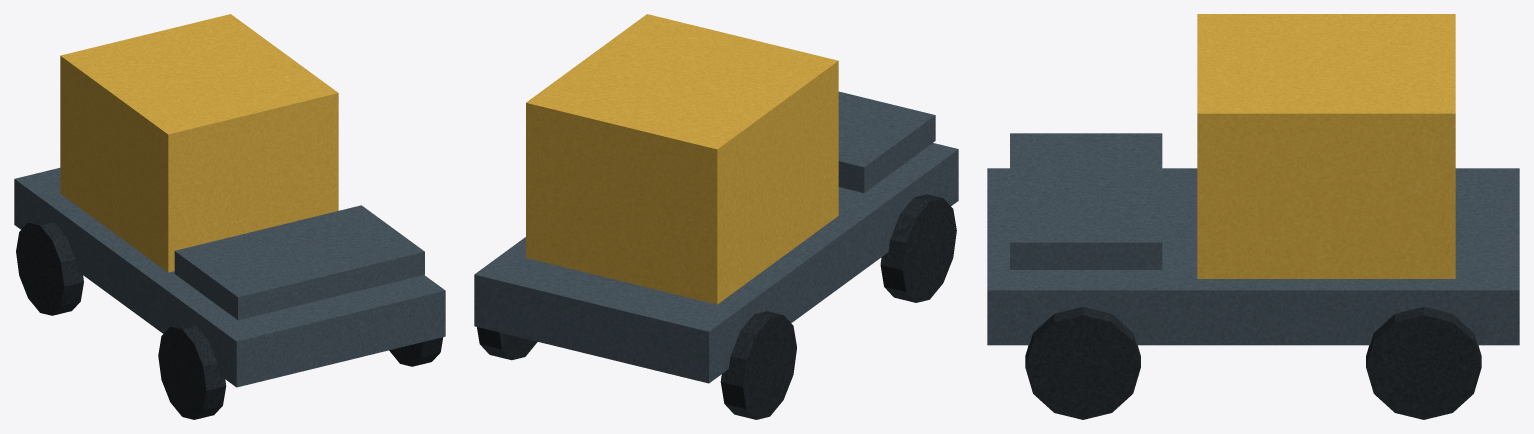
Rendered from baggage_tug.glb.
3 renders of one model, left to right at view 1: azimuth 30°, elevation 25°; view 2: azimuth 150°, elevation 25°; view 3: azimuth 270°, elevation 25°, orthographic. The views are drawn at different scales.
Visible parts, largest first — view 1: VIS_Baggage_Tug_Cab, VIS_Baggage_Tug_Chassis, VIS_Baggage_Tug_Rear_Tray, VIS_Baggage_Tug_Wheel_-1_1, VIS_Baggage_Tug_Wheel_-1_0, VIS_Baggage_Tug_Wheel_1_1; view 2: VIS_Baggage_Tug_Cab, VIS_Baggage_Tug_Chassis, VIS_Baggage_Tug_Rear_Tray, VIS_Baggage_Tug_Wheel_-1_0, VIS_Baggage_Tug_Wheel_-1_1, VIS_Baggage_Tug_Wheel_1_0; view 3: VIS_Baggage_Tug_Cab, VIS_Baggage_Tug_Chassis, VIS_Baggage_Tug_Rear_Tray, VIS_Baggage_Tug_Wheel_1_0, VIS_Baggage_Tug_Wheel_1_1.
Part boxes in pixels (bbox=[...]): VIS_Baggage_Tug_Cab: bbox=[60, 14, 338, 272]; VIS_Baggage_Tug_Chassis: bbox=[14, 168, 445, 387]; VIS_Baggage_Tug_Rear_Tray: bbox=[174, 205, 424, 320]; VIS_Baggage_Tug_Wheel_-1_1: bbox=[158, 323, 226, 419]; VIS_Baggage_Tug_Wheel_-1_0: bbox=[16, 219, 83, 315]; VIS_Baggage_Tug_Wheel_1_1: bbox=[389, 337, 443, 366]; VIS_Baggage_Tug_Cab: bbox=[526, 14, 838, 304]; VIS_Baggage_Tug_Chassis: bbox=[474, 143, 958, 383]; VIS_Baggage_Tug_Rear_Tray: bbox=[838, 91, 935, 192]; VIS_Baggage_Tug_Wheel_-1_0: bbox=[720, 311, 796, 419]; VIS_Baggage_Tug_Wheel_-1_1: bbox=[880, 194, 956, 302]; VIS_Baggage_Tug_Wheel_1_0: bbox=[477, 327, 537, 360]; VIS_Baggage_Tug_Cab: bbox=[1197, 14, 1455, 278]; VIS_Baggage_Tug_Chassis: bbox=[987, 168, 1519, 345]; VIS_Baggage_Tug_Rear_Tray: bbox=[1010, 133, 1162, 269]; VIS_Baggage_Tug_Wheel_1_0: bbox=[1366, 307, 1481, 419]; VIS_Baggage_Tug_Wheel_1_1: bbox=[1025, 307, 1140, 419].
Bounding box in the file's own units: 2.16 × 2.08 × 3.5.
Materials: 3 (3 with a texture image).
